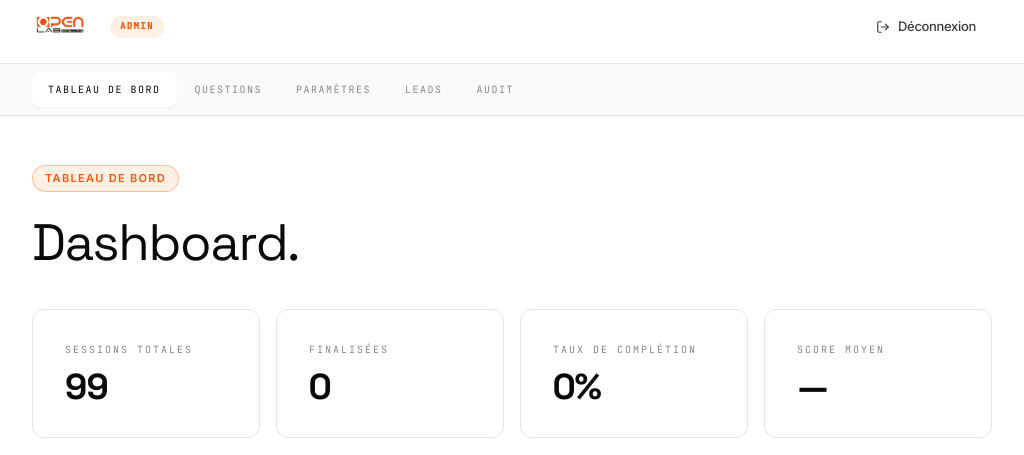
AdminDashboard — Audit tab › affiche 'Aucune entrée' quand le journal est vide
Expected: the text "99" is shown, [65,364,108,410]
Click the button "Audit" at (495, 90), box [460,72,530,107]
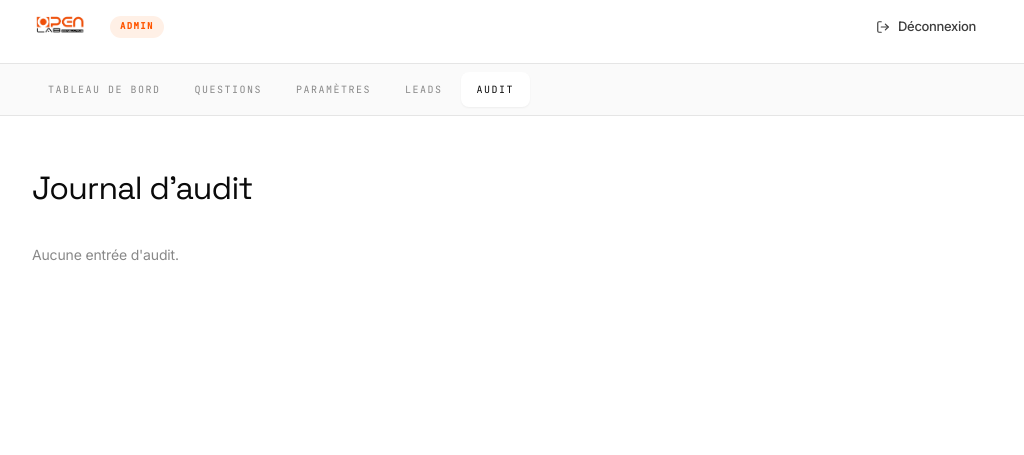
Expected: the text "Aucune entrée d'audit." is shown, [32,246,179,263]
